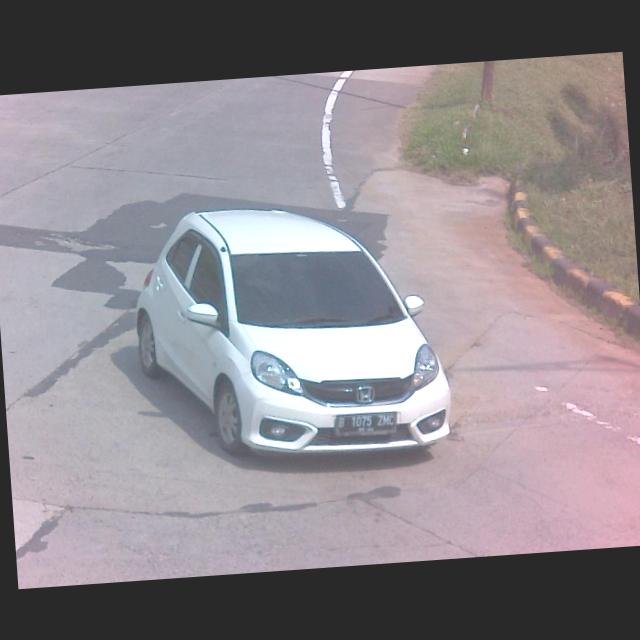plate: (336, 411, 399, 437)
